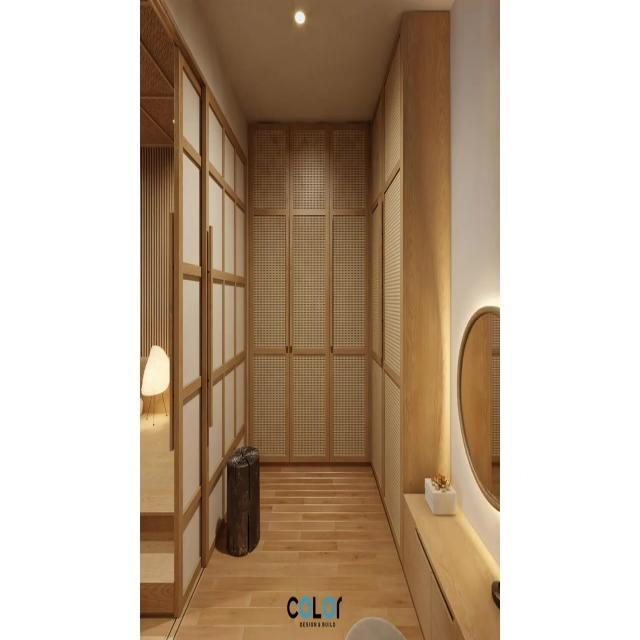obstacle: (368, 9, 452, 569), (248, 120, 370, 466)
